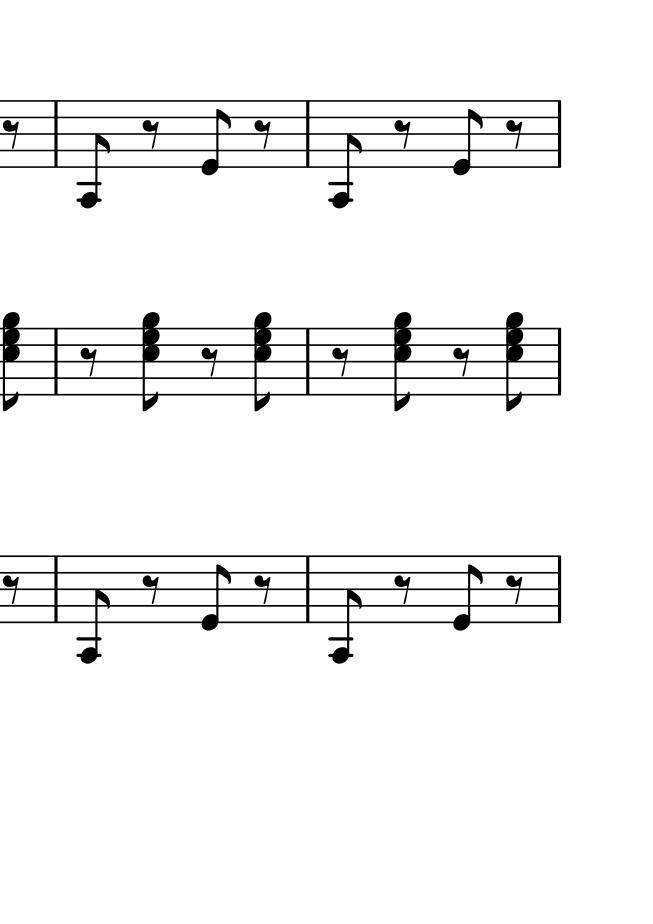8_-4: (78, 99, 110, 209), (329, 98, 361, 208), (77, 554, 109, 664), (329, 554, 361, 664)
8_0: (451, 554, 483, 633), (200, 99, 232, 177), (451, 99, 483, 177), (200, 555, 232, 633)
8_th: (251, 308, 273, 412), (503, 309, 525, 413), (140, 309, 161, 412), (392, 309, 413, 412), (1, 308, 21, 409)
Rests8: (252, 117, 277, 151), (252, 573, 277, 607), (198, 346, 223, 379), (78, 345, 102, 378), (451, 345, 475, 378), (504, 118, 527, 152), (504, 573, 527, 607), (393, 118, 416, 151), (330, 345, 353, 378), (140, 573, 163, 606), (393, 573, 416, 606), (141, 118, 163, 151), (1, 116, 21, 150), (3, 576, 25, 605)
Single_barline: (299, 99, 319, 168), (551, 100, 567, 168), (551, 328, 567, 393), (552, 556, 567, 623), (301, 326, 316, 393), (301, 554, 315, 623), (48, 331, 63, 394), (49, 558, 63, 622), (49, 103, 62, 166)
